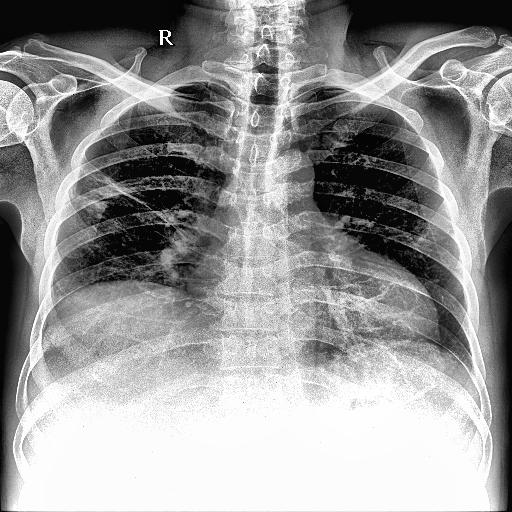1- Atelectasis: (60, 160, 160, 220)
13- Pulmonary fibrosis: (70, 166, 189, 244)
6- Infiltration: (76, 162, 148, 219)
7- Lung Opacity: (70, 166, 189, 244), (60, 160, 160, 220), (76, 162, 148, 219)
